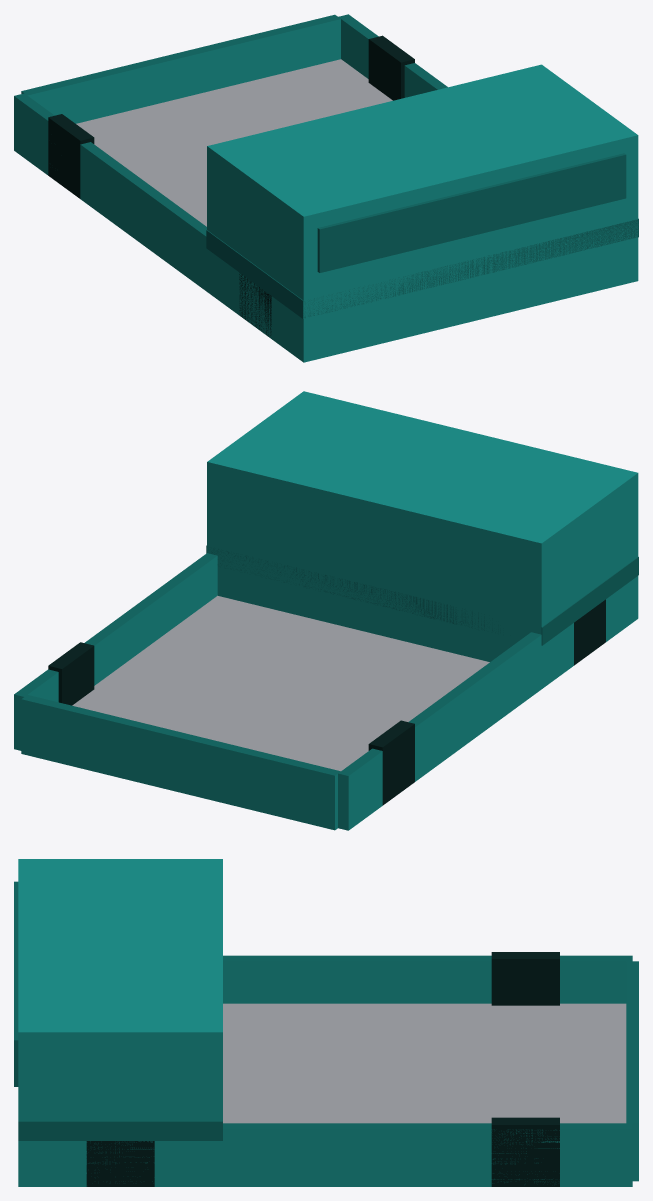
File: prop_van.glb
3 renders of one model, top to bottom at view 1: azimuth 30°, elevation 25°; view 2: azimuth 150°, elevation 25°; view 3: azimuth 270°, elevation 25°, orthographic. The views are drawn at different scales.
Visible parts, largest first — view 1: body, door_L, door_R; view 2: body, door_R, door_L; view 3: body, door_L, door_R.
Boxes of the visible parts, x1,y1,x2,y2 form: body: (14, 14, 638, 362); door_L: (179, 14, 340, 97); door_R: (21, 53, 184, 123); body: (14, 391, 638, 830); door_R: (178, 733, 340, 830); door_L: (21, 695, 183, 791); body: (14, 859, 632, 1186); door_L: (626, 1042, 638, 1181); door_R: (626, 961, 638, 1042).
Size of the model in its own units: 0.964 by 0.4 by 1.47.
Materials: 1 (1 with a texture image).
